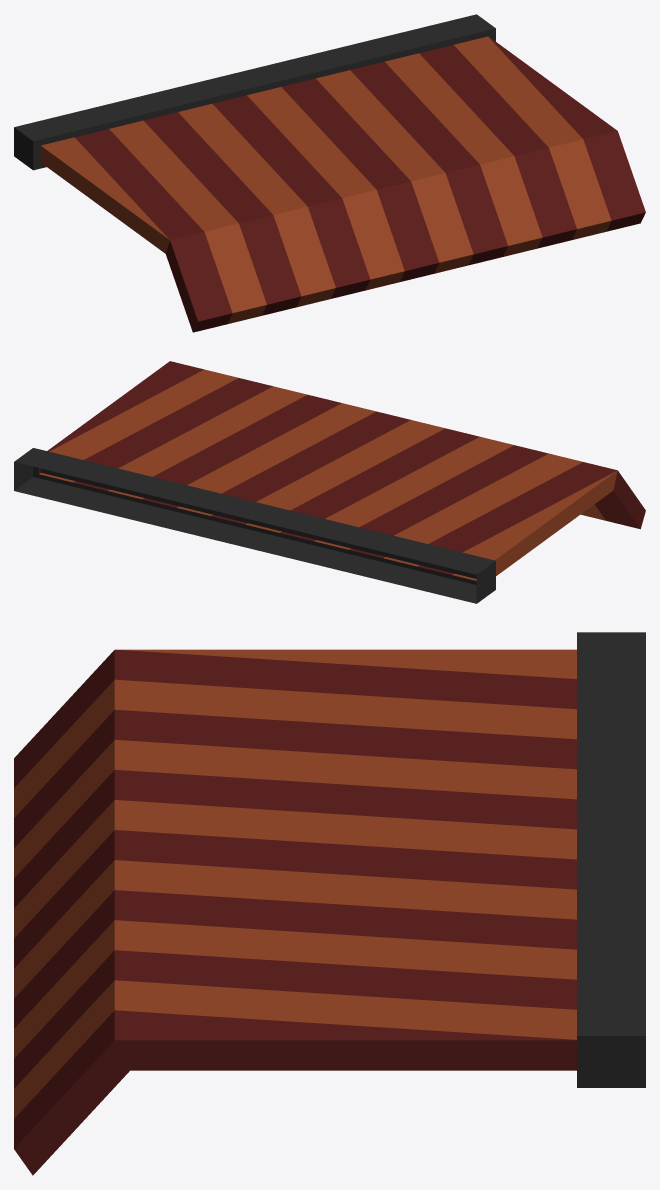
File: Awning_D_02.FBX
3 renders of one model, top to bottom at view 1: azimuth 30°, elevation 25°; view 2: azimuth 150°, elevation 25°; view 3: azimuth 270°, elevation 25°, orthographic. The views are drawn at different scales.
Visible parts, largest first — view 1: Awning_D_02; view 2: Awning_D_02; view 3: Awning_D_02.
Boxes of the visible parts, box(x1,y1,x2,y2) form: Awning_D_02: box(14, 14, 645, 332); Awning_D_02: box(14, 361, 645, 603); Awning_D_02: box(14, 632, 645, 1175).
Size of the model in its own units: 2.41 by 0.4069 by 1.59.
